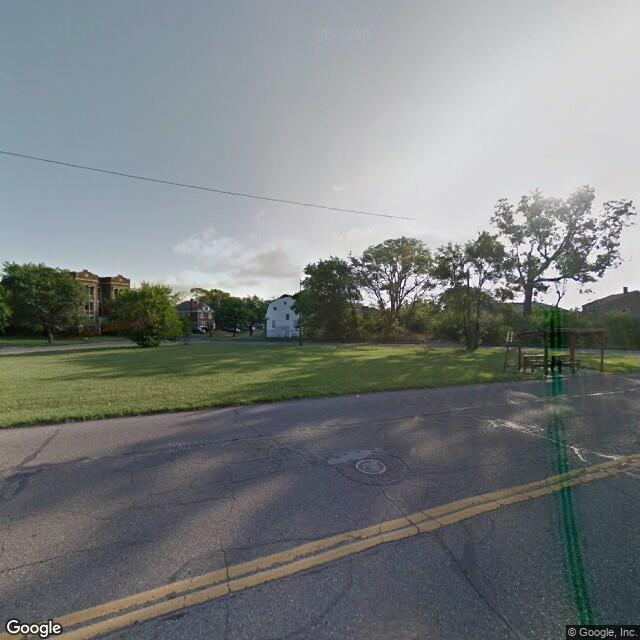litter: (351, 393, 363, 397)
